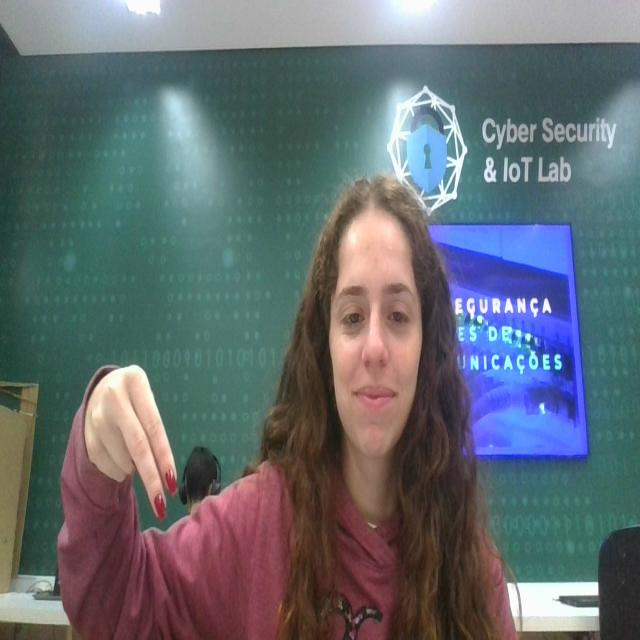N: (80, 342, 185, 536)
